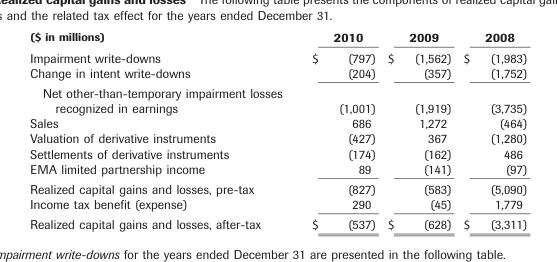table: (29, 29, 526, 231)
table column: (29, 29, 296, 231), (296, 29, 380, 231), (380, 29, 456, 231), (456, 29, 526, 231)
table column header: (29, 29, 526, 47)
table row: (29, 82, 526, 115), (29, 29, 526, 47), (29, 64, 526, 82), (29, 160, 526, 178), (29, 178, 526, 196), (29, 213, 526, 231), (29, 47, 526, 64), (29, 196, 526, 213), (29, 115, 526, 130), (29, 130, 526, 145), (29, 145, 526, 160)
